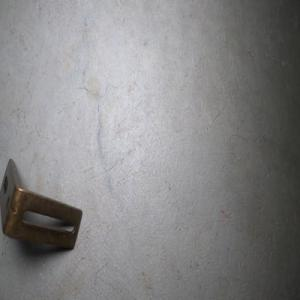MetalPart: (0, 156, 82, 250)
